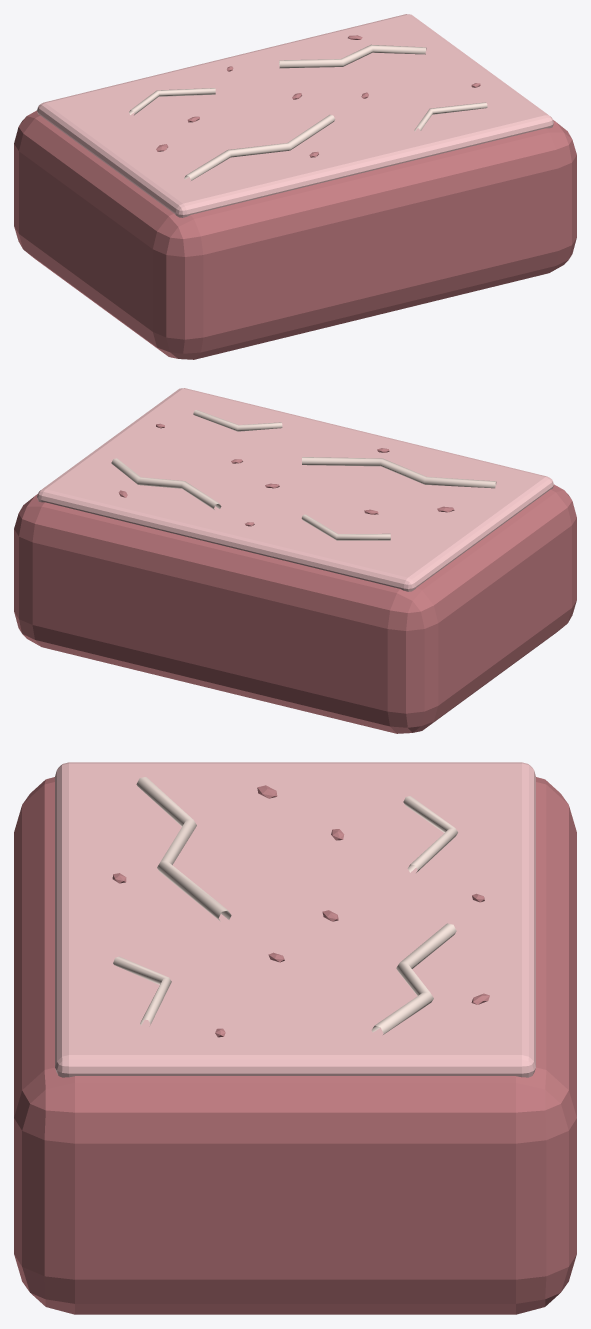
The model's file is ham.glb.
3 views of the same model, one above another, from view 1: azimuth 30°, elevation 25°; view 2: azimuth 150°, elevation 25°; view 3: azimuth 270°, elevation 25° (orthographic). The views are drawn at different scales.
Visible parts, largest first — view 1: ham_rind, ham_cut_surface, fat_marble_0, fat_marble_1, fat_marble_2, fat_marble_3; view 2: ham_rind, ham_cut_surface, fat_marble_0, fat_marble_1, fat_marble_2, fat_marble_3; view 3: ham_rind, ham_cut_surface, fat_marble_0, fat_marble_1, fat_marble_2, fat_marble_3.
Part boxes in pixels (x1,y1,x2,y2): ham_rind: [14, 110, 576, 359]; ham_cut_surface: [37, 14, 553, 217]; fat_marble_0: [184, 114, 335, 180]; fat_marble_1: [279, 44, 426, 68]; fat_marble_2: [129, 88, 215, 115]; fat_marble_3: [414, 102, 487, 131]; ham_rind: [14, 484, 576, 733]; ham_cut_surface: [37, 388, 553, 591]; fat_marble_0: [302, 457, 496, 488]; fat_marble_1: [111, 458, 221, 509]; fat_marble_2: [301, 514, 390, 540]; fat_marble_3: [193, 410, 282, 431]; ham_rind: [14, 777, 576, 1314]; ham_cut_surface: [55, 762, 535, 1077]; fat_marble_0: [136, 777, 231, 921]; fat_marble_1: [371, 923, 456, 1034]; fat_marble_2: [403, 796, 457, 872]; fat_marble_3: [113, 956, 171, 1025].
Bounding box in the file's own units: 0.34 × 0.1257 × 0.24.
